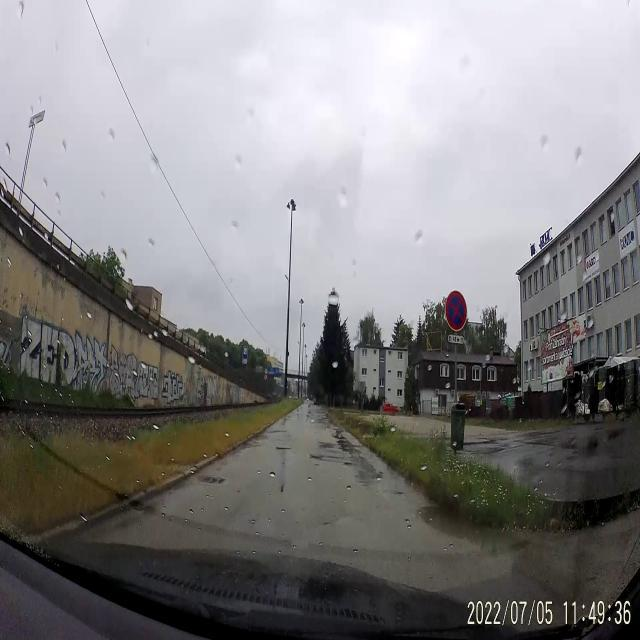Manhole: (202, 473, 226, 486)
Pothole: (354, 457, 374, 490), (338, 440, 362, 456), (324, 454, 340, 464), (318, 442, 334, 451), (332, 429, 346, 439), (308, 453, 322, 461), (246, 441, 262, 448), (342, 460, 355, 468), (276, 446, 292, 451), (268, 430, 287, 434), (322, 520, 331, 528), (396, 490, 404, 496), (280, 485, 284, 493)
